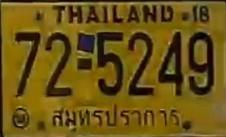2: (44, 32, 71, 96), (127, 31, 153, 95)
4: (158, 31, 182, 95)
5: (96, 31, 123, 95)
7: (14, 31, 40, 96)
9: (188, 31, 214, 94)
SPK: (45, 101, 184, 133)
